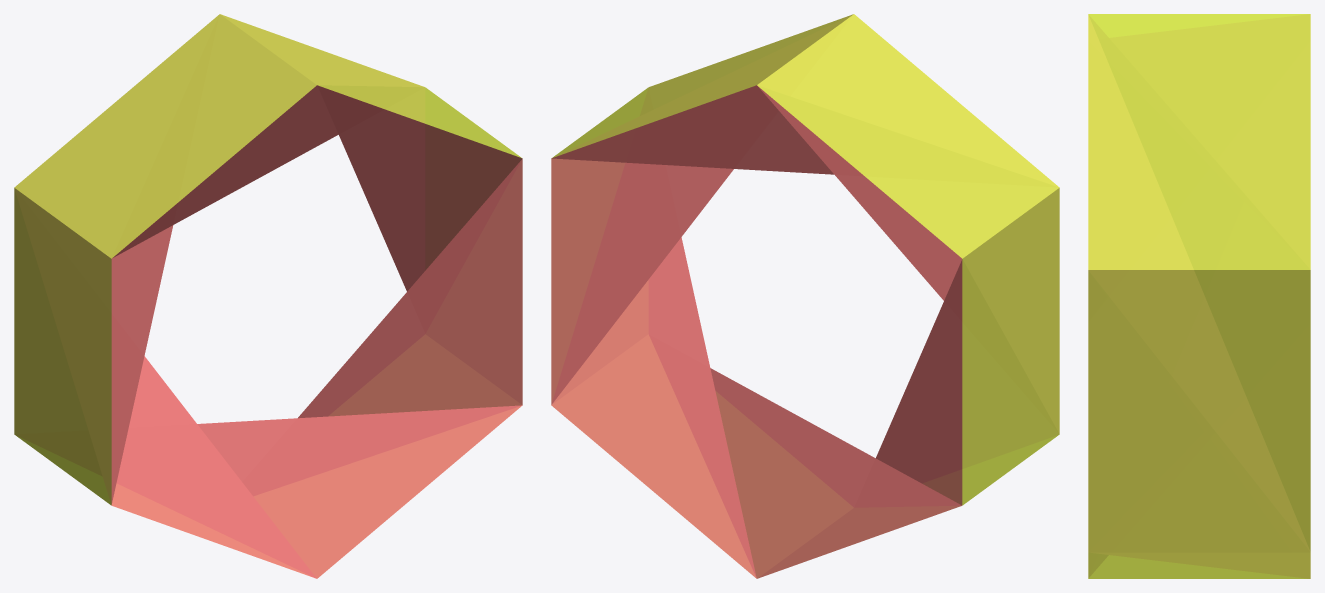
The model's file is HexagonalIrisToroid.obj.
3 views of the same model, side by side, from view 1: azimuth 30°, elevation 25°; view 2: azimuth 150°, elevation 25°; view 3: azimuth 270°, elevation 25° (orthographic). The views are drawn at different scales.
Bounding box in the file's own units: 2.44 × 2.8 × 1.
